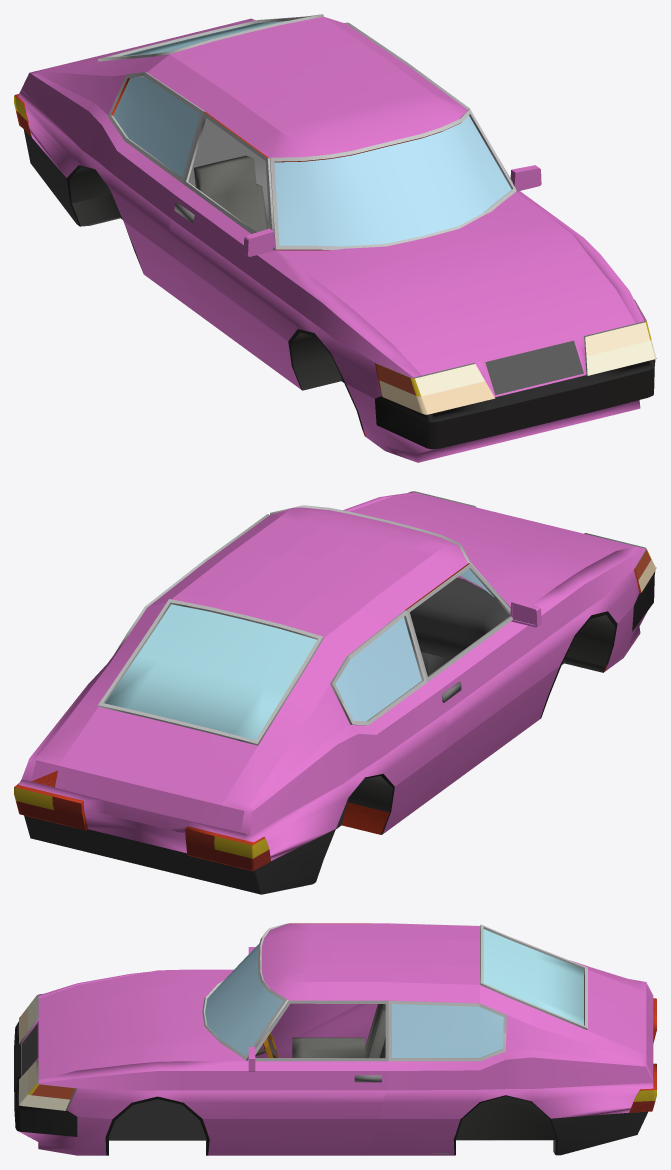
The model's file is Turbo_Pink.fbx.
3 renders of one model, top to bottom at view 1: azimuth 30°, elevation 25°; view 2: azimuth 150°, elevation 25°; view 3: azimuth 270°, elevation 25°, orthographic. The views are drawn at different scales.
Visible parts, largest first — view 1: Chassi, Hood, Glass, Door_R, Seats, Trunk, Door_L, TrunkGlass; view 2: Chassi, Trunk, TrunkGlass, Door_R, Hood, Glass; view 3: Chassi, Hood, Door_L, Glass, TrunkGlass, Trunk, Door_R, Seats.
Boxes of the visible parts, x1,y1,x2,y2 form: Chassi: [14, 16, 656, 462]; Hood: [276, 192, 635, 375]; Glass: [113, 76, 511, 246]; Door_R: [169, 111, 278, 372]; Seats: [194, 155, 267, 232]; Trunk: [63, 14, 323, 64]; Door_L: [405, 62, 541, 195]; TrunkGlass: [120, 21, 286, 56]; Chassi: [14, 491, 656, 894]; Trunk: [55, 599, 323, 826]; TrunkGlass: [105, 604, 316, 740]; Door_R: [405, 563, 541, 791]; Hood: [349, 494, 634, 607]; Glass: [335, 560, 493, 721]; Chassi: [14, 923, 656, 1155]; Hood: [38, 969, 246, 1079]; Door_L: [242, 1000, 388, 1155]; Glass: [205, 944, 503, 1057]; TrunkGlass: [483, 929, 583, 1025]; Trunk: [480, 924, 652, 1068]; Door_R: [248, 923, 377, 1057]; Seats: [292, 1004, 385, 1057].
Bounding box in the file's own units: 2.14 × 1.42 × 5.18.
